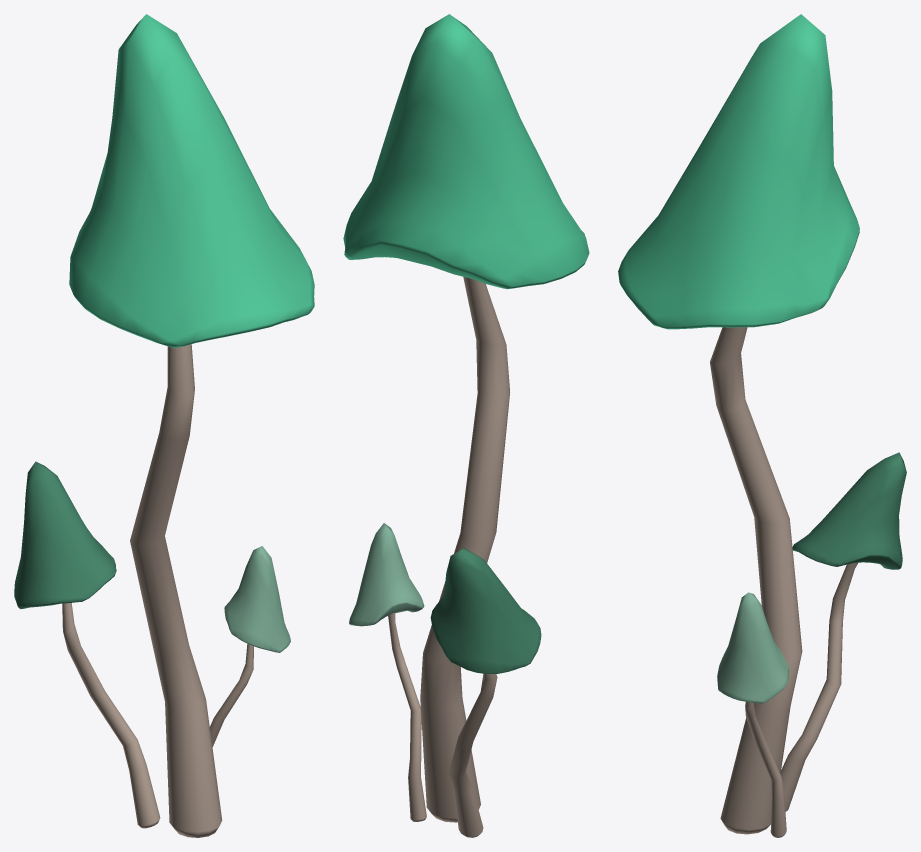
File: Mesh_Mushroom_Thin.fbx
3 renders of one model, left to right at view 1: azimuth 30°, elevation 25°; view 2: azimuth 150°, elevation 25°; view 3: azimuth 270°, elevation 25°, orthographic. The views are drawn at different scales.
Visible parts, largest first — view 1: Mushroom02_mushroom02_cap; view 2: Mushroom02_mushroom02_cap; view 3: Mushroom02_mushroom02_cap.
Boxes of the visible parts, x1,y1,x2,y2 form: Mushroom02_mushroom02_cap: (14,14,314,837); Mushroom02_mushroom02_cap: (343,14,589,837); Mushroom02_mushroom02_cap: (618,14,906,837).
Bounding box in the file's own units: 43.42 × 146 × 47.7.
